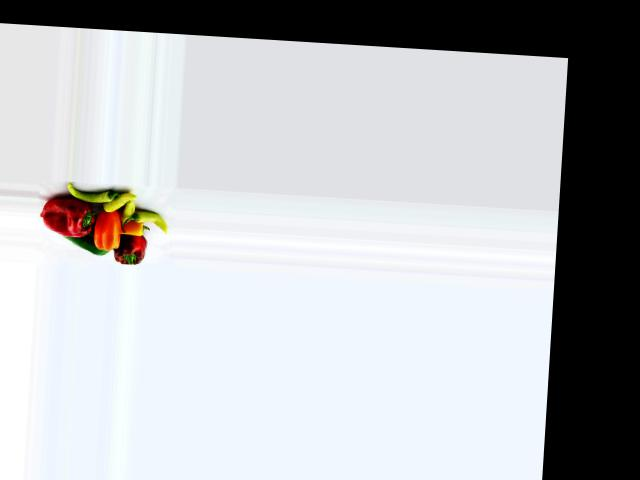bell_pepper: (63, 183, 123, 203)
